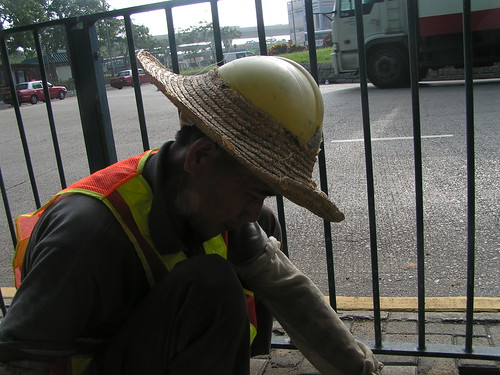person hardhat: (17, 50, 404, 375)
